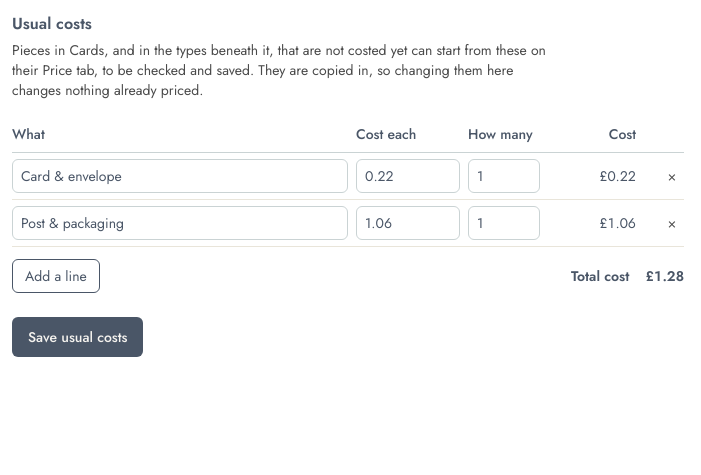
Scenario: CategoryCostsForm › saves the lines as they are typed
The width and height of the screenshot is (701, 475).
Click the button "Add a line": click(56, 276) [12, 259, 100, 293]
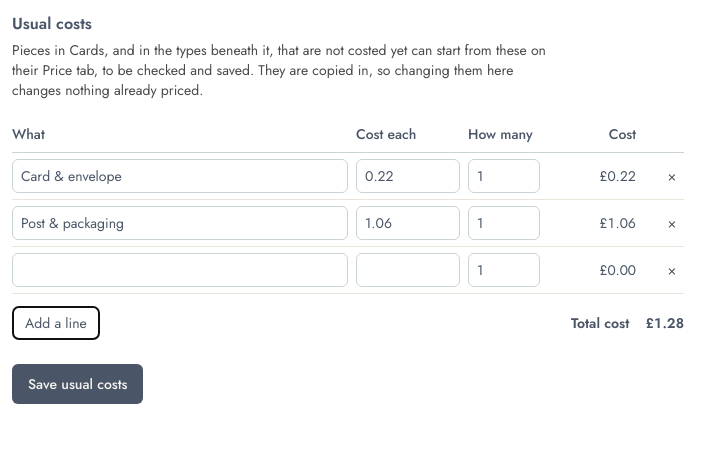
In the field named "What" in the row of "£0.00": (180, 270) [12, 253, 348, 287], type "Ink"
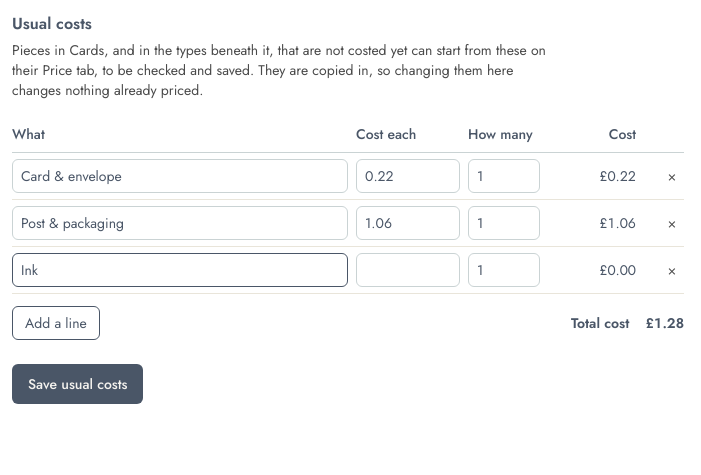
In the field named "Cost each" next to "£0.00": (408, 270) [356, 253, 460, 287], type "0.30"
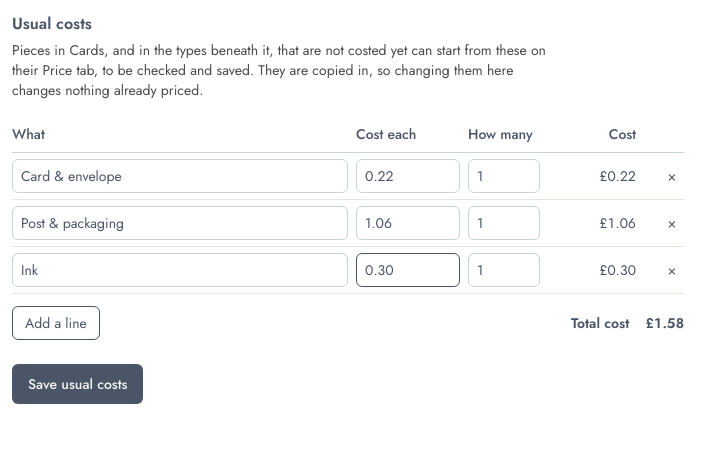
Click the button "Save usual costs": click(78, 384) [12, 364, 144, 404]
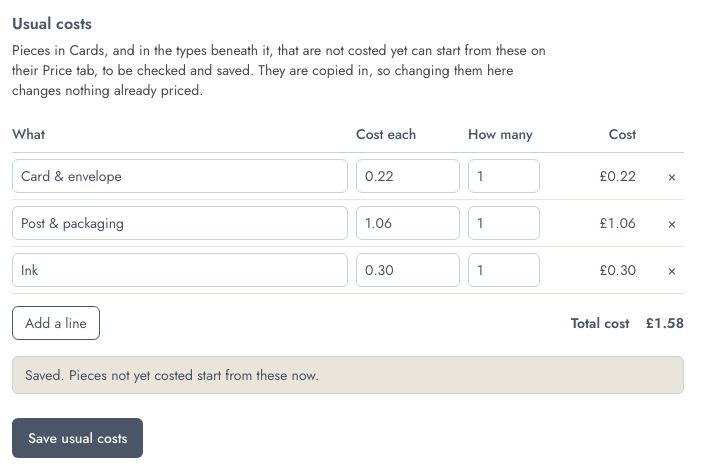
Now the message shows "Saved.", box [25, 365, 319, 385]
